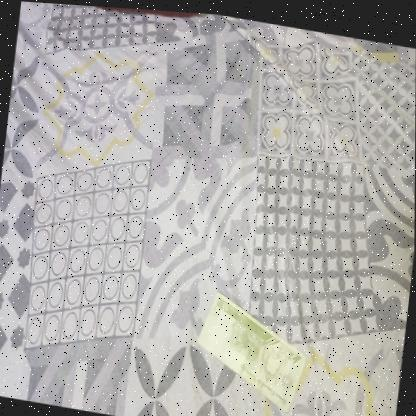fifty-back-vef: (190, 284, 314, 412)
